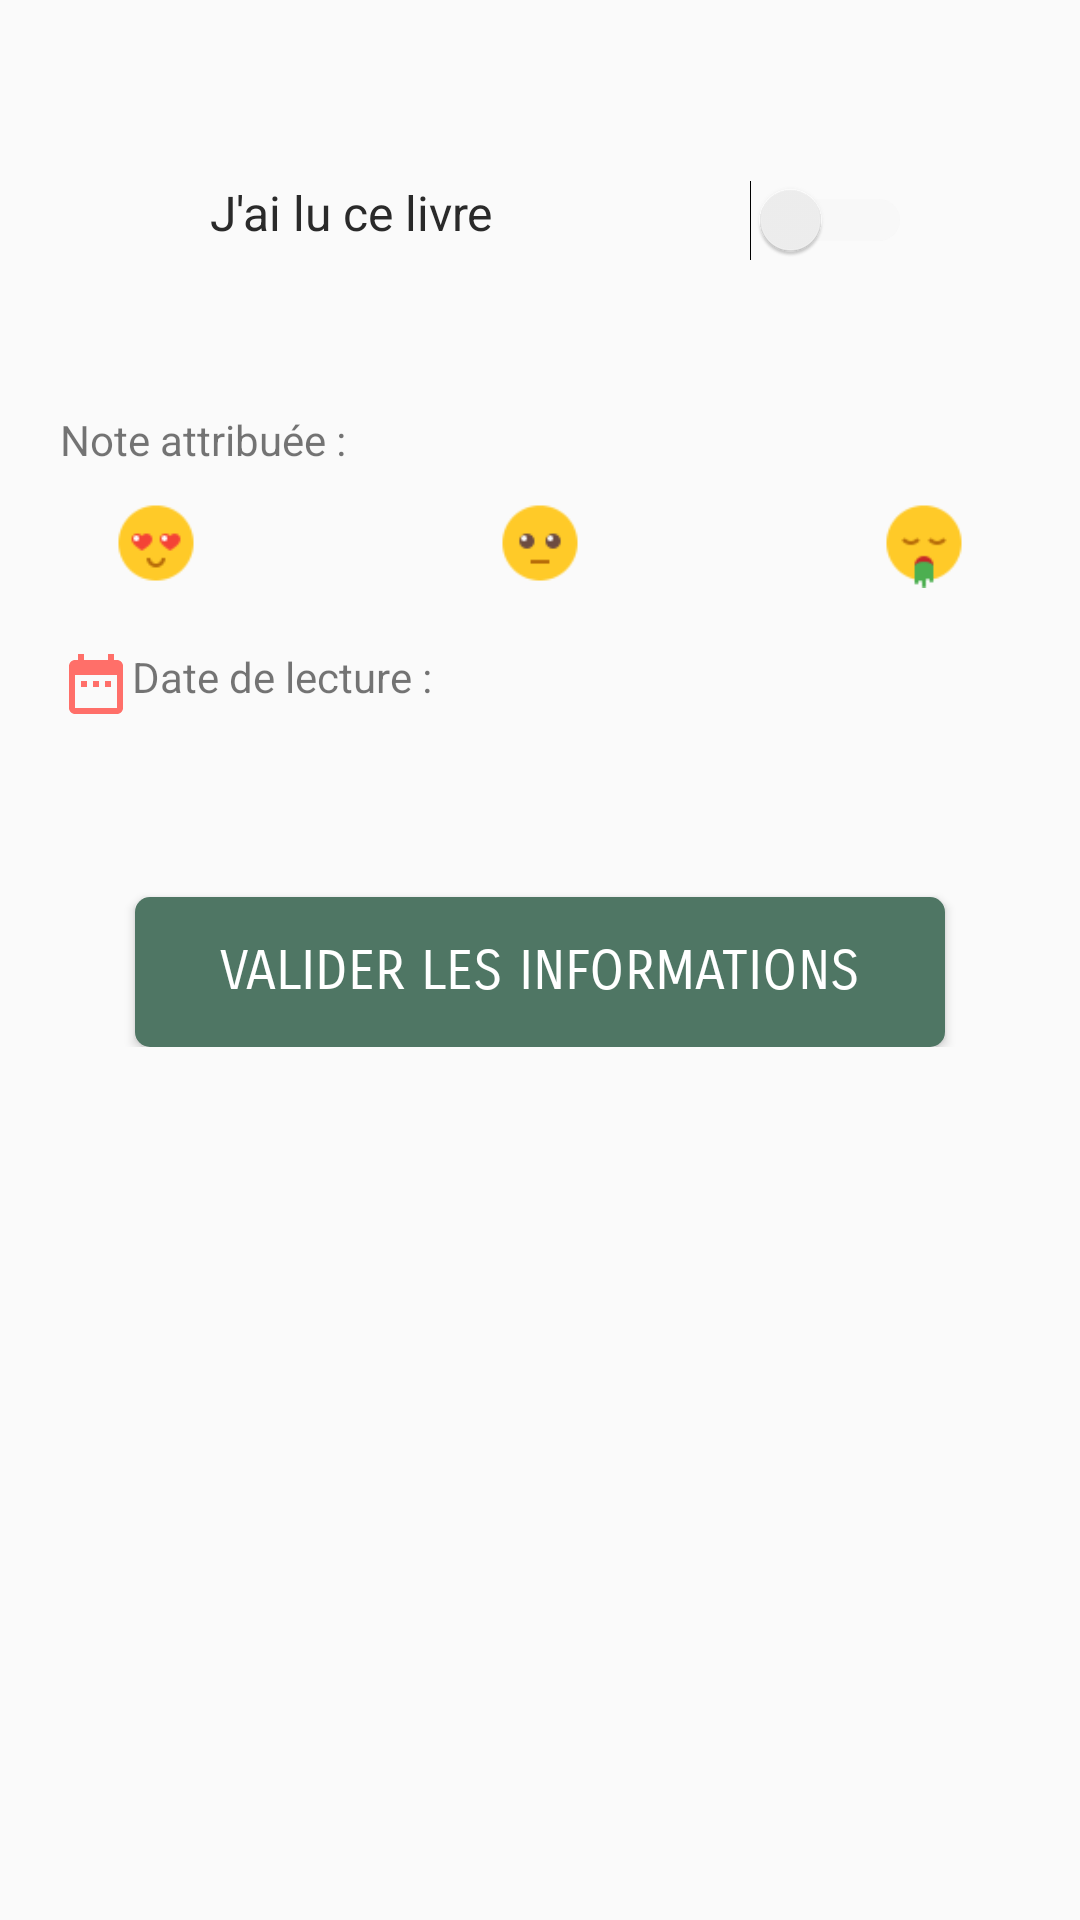

Point at icon controls on the screen. Image size 1080×1920, points as [x,y].
love: [156,543]
neutral: [540,543]
vomited: [924,546]
